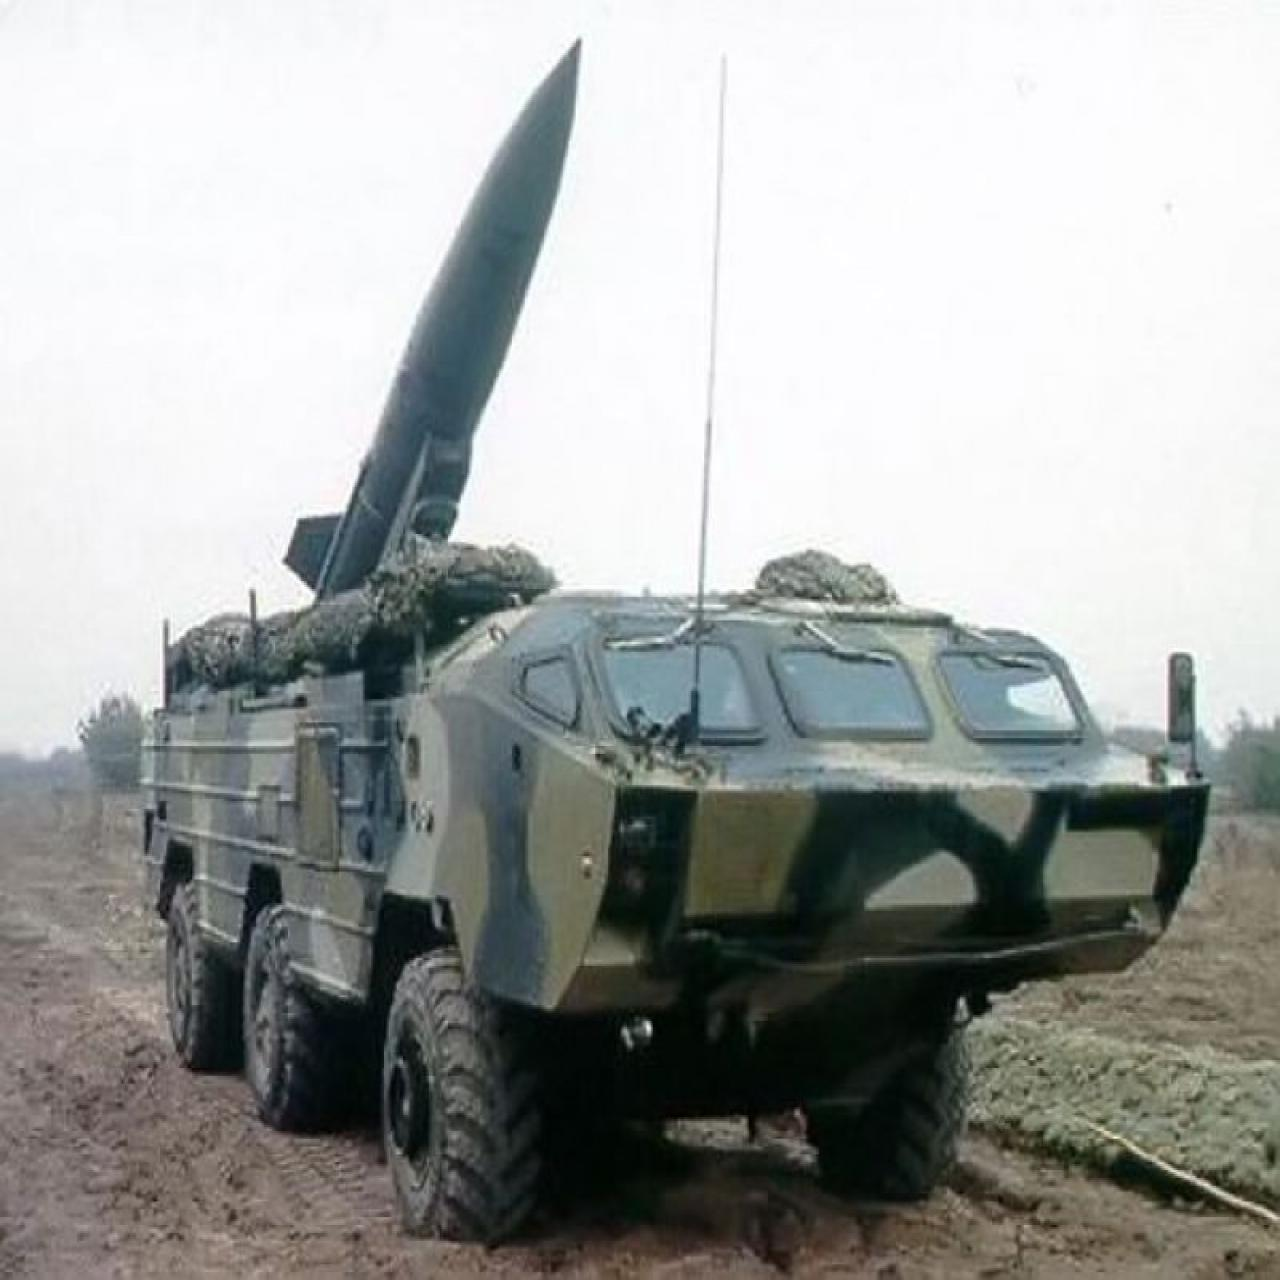MIL_Veh: (140, 34, 1203, 1219)
